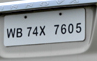0: (68, 22, 74, 34)
4: (33, 26, 39, 37)
5: (75, 22, 82, 34)
6: (60, 24, 68, 35)
7: (53, 23, 60, 35), (26, 25, 33, 36)
B: (16, 27, 24, 38)
W: (6, 27, 16, 39)
X: (38, 24, 47, 36)
